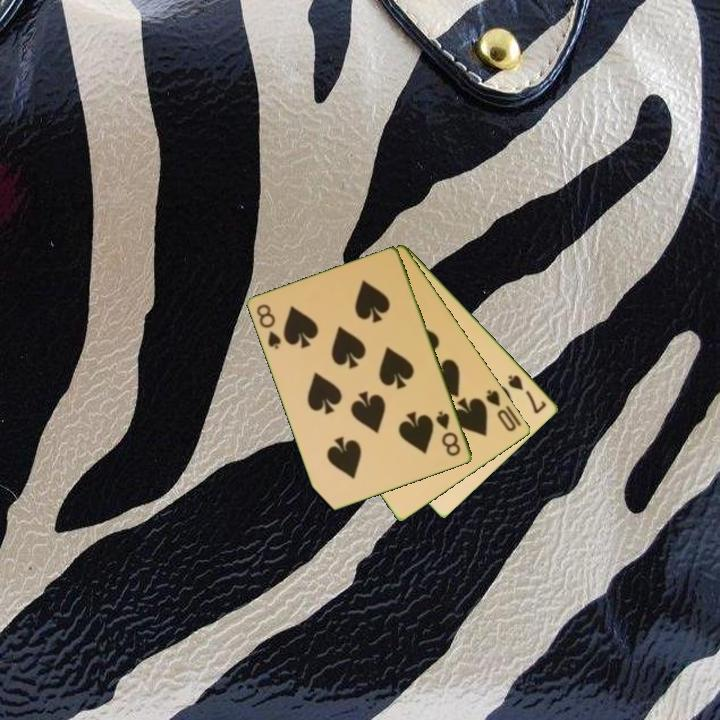10s: (482, 386, 520, 435)
7s: (505, 371, 550, 417)
8s: (433, 407, 464, 460), (253, 301, 284, 352)
